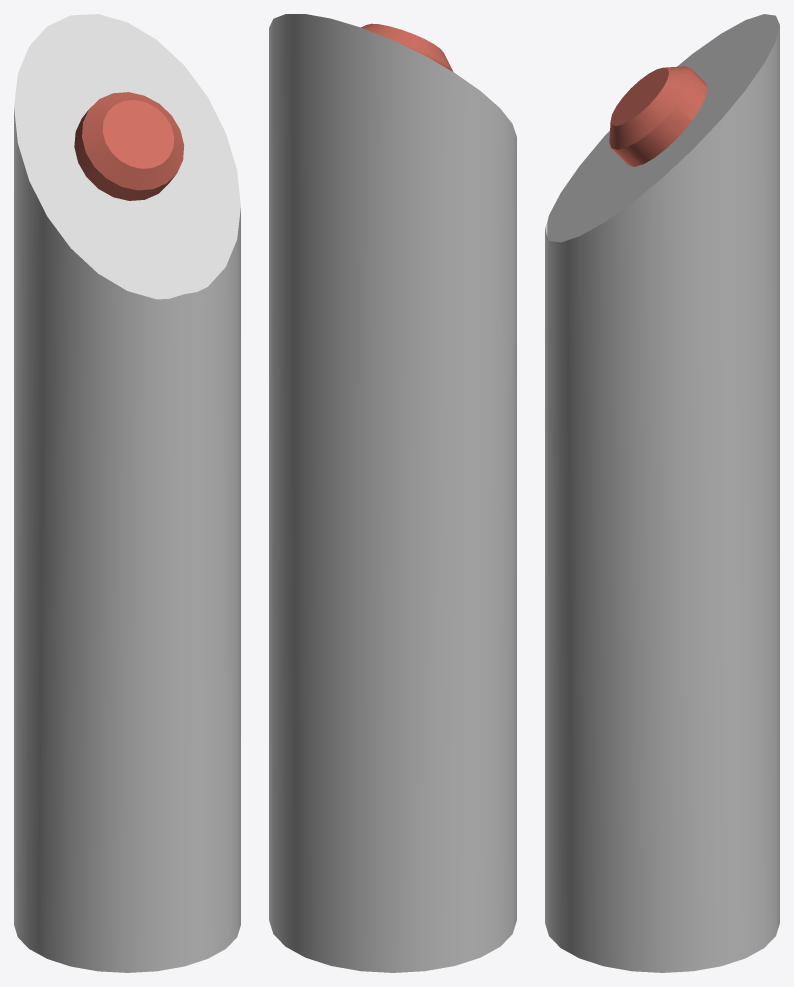
The model's file is summon_but.fbx.
The picture shows the model from 3 angles, left to right: view 1: azimuth 30°, elevation 25°; view 2: azimuth 150°, elevation 25°; view 3: azimuth 270°, elevation 25°; orthographic projection. The views are drawn at different scales.
Parts seen in each view (by area): view 1: pCylinder4; view 2: pCylinder4; view 3: pCylinder4.
Part boxes in pixels (bbox=[...]): pCylinder4: bbox=[14, 14, 240, 972]; pCylinder4: bbox=[269, 14, 516, 972]; pCylinder4: bbox=[545, 14, 779, 972].
Size of the model in its own units: 2 by 8.44 by 2.
